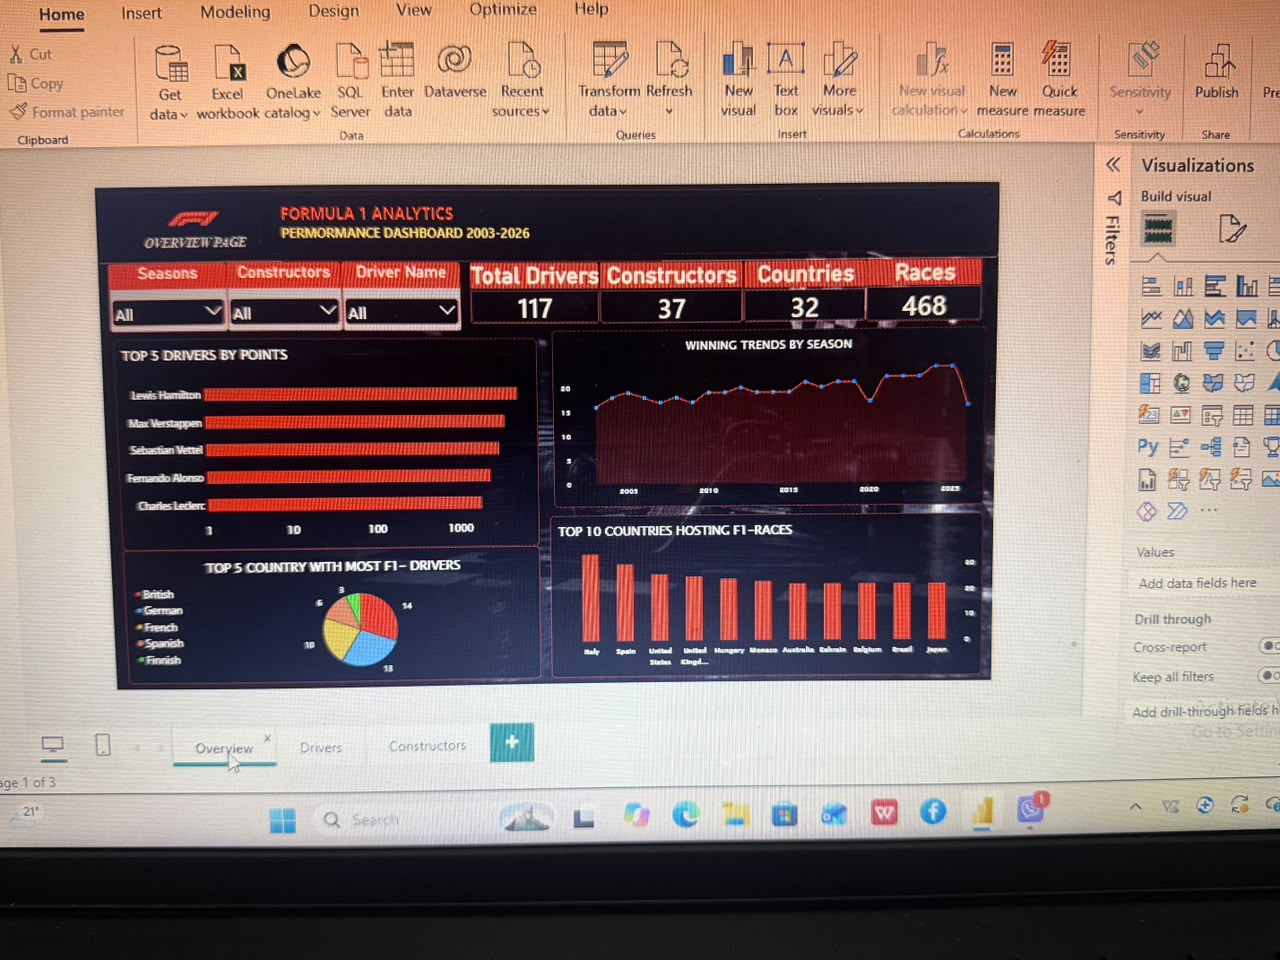

The dashboard page shown, as its layout file describes it:
{"tool":"powerbi","page":{"name":"Overview","canvas":[1920,1080],"ordinal":0},"visuals":[{"type":"textbox","box":[0,10.8,1920.2,149],"z":0},{"type":"cardVisual","title":"Total Drivers","fields":{"Data":["Count(f1_main.driver_name)"]},"box":[788.4,159.8,276.5,129.6],"z":1000},{"type":"cardVisual","title":" Constructors","fields":{"Data":["Count(f1_main.constructor_name)"]},"box":[1064.9,159.8,308.9,129.6],"z":2000},{"type":"cardVisual","title":"Countries","fields":{"Data":["Count(f1_main.driver_nationality)"]},"box":[1373.8,159.8,263.5,129.6],"z":3000},{"type":"image","box":[25.9,0,369.4,164.2],"z":4000},{"type":"cardVisual","title":" Races","fields":{"Data":["Count(f1_main.race_date)"]},"box":[1637.3,159.8,248.4,131.8],"z":5000},{"type":"textbox","box":[58.3,101.5,306.7,62.6],"z":6000},{"type":"slicer","title":"Seasons","fields":{"Values":["f1_main.season"]},"box":[22.5,160,252.7,144.7],"z":7000},{"type":"slicer","title":"Constructors","fields":{"Values":["f1_main.constructor_name"]},"box":[275,160,241.9,144.7],"z":8000},{"type":"slicer","title":"Driver Name","fields":{"Values":["f1_main.driver_name"]},"box":[517.5,160,250,145],"z":9000},{"type":"clusteredBarChart","title":"TOP 5 DRIVERS BY POINTS","fields":{"Category":["f1_main.driver_name"],"Y":["Sum(f1_main.points)"]},"box":[26.7,320,900,435.6],"z":10000},{"type":"lineChart","title":"WINNING TRENDS BY SEASON","fields":{"Category":["f1_main.season"],"Y":["Sum(f1_main.is_win)"]},"box":[960,305,937.5,385],"z":11000},{"type":"columnChart","title":"TOP 10 COUNTRIES HOSTING F1-RACES","fields":{"Category":["f1_main.circuit_country"],"Y":["Count(f1_main.race_date)"]},"box":[960,695.6,937.8,373.3],"z":12000},{"type":"pieChart","title":"TOP 5 COUNTRY WITH MOST F1- DRIVERS","fields":{"Category":["f1_main.driver_nationality"],"Y":["Count(f1_main.driver_name)"]},"box":[26.7,768.9,900,293.3],"z":13000},{"type":"shape","box":[347.5,22.5,1572.5,125],"z":14000},{"type":"textbox","box":[395,37.5,802.5,122.5],"z":15000},{"type":"pageNavigator","title":"VIEWING..","box":[1146.7,37.8,706.7,102.2],"z":16001}]}

Visuals, with their boxes on the page's 1920x1080 design canvas (x1, y1, x2, y2). These are canvas units, not pixel positions in the 1280x960 screenshot, which may show the page scaled, cropped or inside an application window:
textbox: {"left": 0, "top": 11, "right": 1920, "bottom": 160}
"Total Drivers" cardVisual: {"left": 788, "top": 160, "right": 1065, "bottom": 289}
" Constructors" cardVisual: {"left": 1065, "top": 160, "right": 1374, "bottom": 289}
"Countries" cardVisual: {"left": 1374, "top": 160, "right": 1637, "bottom": 289}
image: {"left": 26, "top": 0, "right": 395, "bottom": 164}
" Races" cardVisual: {"left": 1637, "top": 160, "right": 1886, "bottom": 292}
textbox: {"left": 58, "top": 102, "right": 365, "bottom": 164}
"Seasons" slicer: {"left": 22, "top": 160, "right": 275, "bottom": 305}
"Constructors" slicer: {"left": 275, "top": 160, "right": 517, "bottom": 305}
"Driver Name" slicer: {"left": 518, "top": 160, "right": 768, "bottom": 305}
"TOP 5 DRIVERS BY POINTS" clusteredBarChart: {"left": 27, "top": 320, "right": 927, "bottom": 756}
"WINNING TRENDS BY SEASON" lineChart: {"left": 960, "top": 305, "right": 1898, "bottom": 690}
"TOP 10 COUNTRIES HOSTING F1-RACES" columnChart: {"left": 960, "top": 696, "right": 1898, "bottom": 1069}
"TOP 5 COUNTRY WITH MOST F1- DRIVERS" pieChart: {"left": 27, "top": 769, "right": 927, "bottom": 1062}
shape: {"left": 348, "top": 22, "right": 1920, "bottom": 148}
textbox: {"left": 395, "top": 38, "right": 1198, "bottom": 160}
"VIEWING.." pageNavigator: {"left": 1147, "top": 38, "right": 1853, "bottom": 140}
